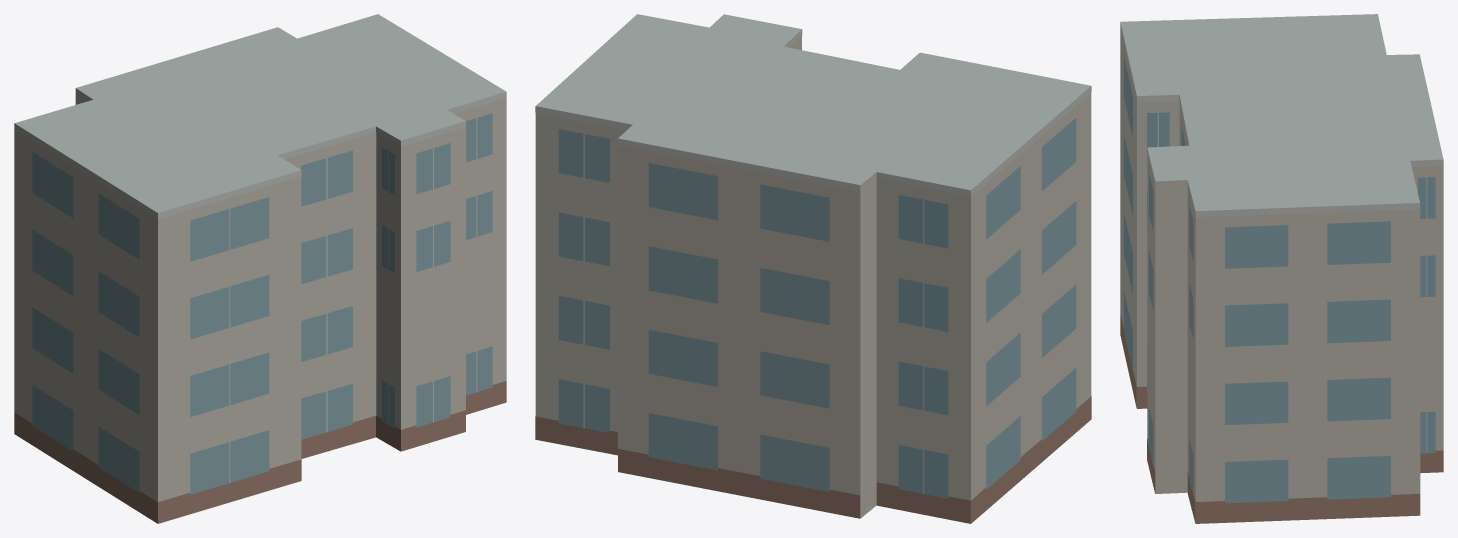
Rendered from survey-upis-32735012.glb.
3 views of the same model, side by side, from view 1: azimuth 30°, elevation 25°; view 2: azimuth 150°, elevation 25°; view 3: azimuth 270°, elevation 25° (orthographic). The views are drawn at different scales.
Visible parts, largest first — view 1: survey-upis-32735012.tmp; view 2: survey-upis-32735012.tmp; view 3: survey-upis-32735012.tmp.
Part boxes in pixels (x1,y1,x2,y2): survey-upis-32735012.tmp: [14, 14, 506, 523]; survey-upis-32735012.tmp: [535, 14, 1091, 523]; survey-upis-32735012.tmp: [1120, 14, 1443, 523].
Bounding box in the file's own units: 16.64 × 12.3 × 11.53.
